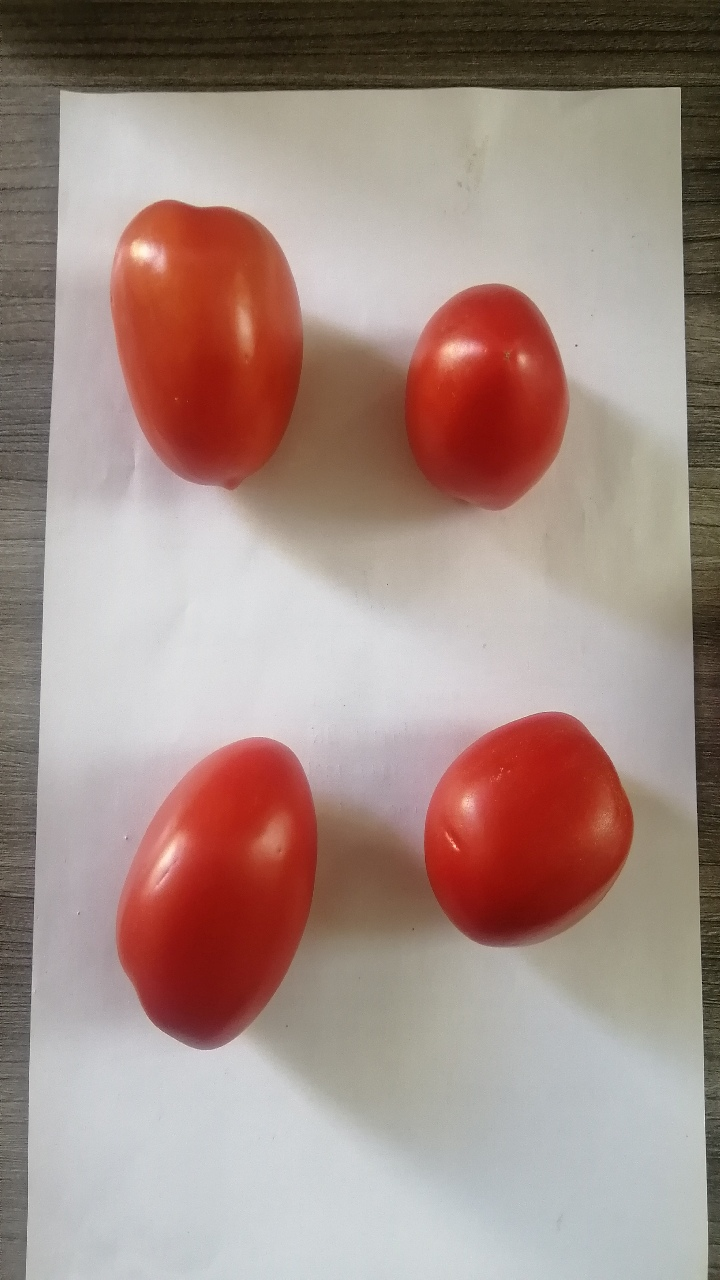tomateRojo: (403, 689, 675, 985), (100, 723, 331, 1062), (88, 180, 321, 502), (392, 252, 583, 526)
